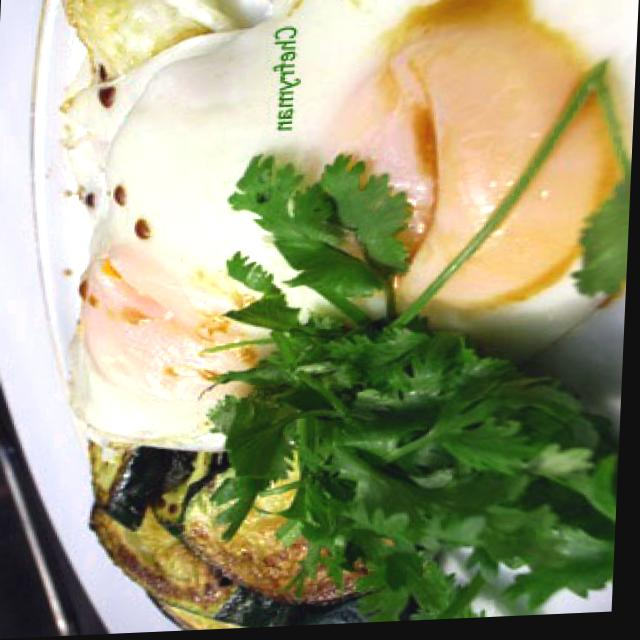鸡蛋料理: (7, 0, 632, 460)
